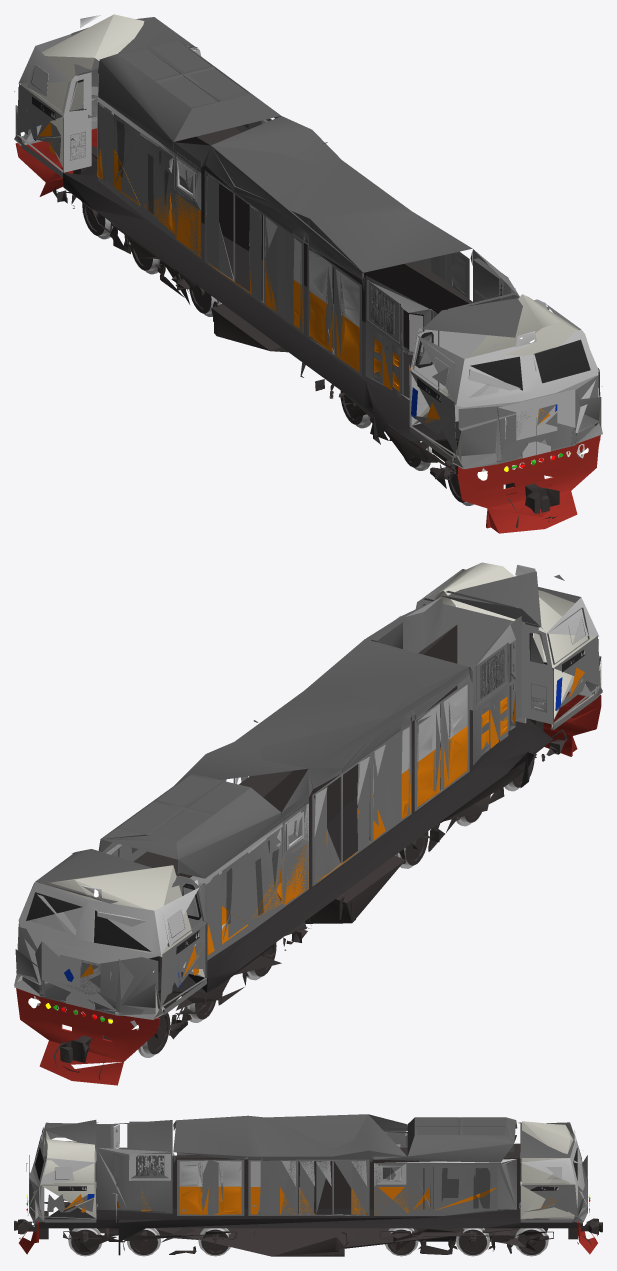
File: cc206-sketchfab-low-packed.glb
3 views of the same model, one above another, from view 1: azimuth 30°, elevation 25°; view 2: azimuth 150°, elevation 25°; view 3: azimuth 270°, elevation 25° (orthographic). The views are drawn at different scales.
Visible parts, largest first — view 1: locomotive-body, cab-entry-0--1, rail-bogie-1, cab-entry-1--1, rail-bogie--1, rail-coupler-1; view 2: locomotive-body, cab-entry-1--1, rail-bogie--1, rail-bogie-1, cab-entry-0--1, cab-entry-0-1, rail-wheel-0--1, rail-coupler--1; view 3: locomotive-body, rail-bogie--1, rail-bogie-1, rail-wheel-1-1, rail-wheel-0-1, rail-wheel-4-1, rail-wheel-3-1, rail-wheel-2-1, rail-coupler-1, rail-coupler--1, rail-wheel-5-1.
Part boxes in pixels (x1,y1,x2,y2): locomotive-body: (14,14,602,533); cab-entry-0--1: (63,70,91,172); rail-bogie-1: (300,362,458,488); cab-entry-1--1: (410,329,536,458); rail-bogie--1: (53,187,219,321); rail-coupler-1: (505,483,559,513); locomotive-body: (14,562,602,1085); cab-entry-1--1: (525,622,553,724); rail-bogie--1: (158,894,344,1039); rail-bogie-1: (399,729,567,864); cab-entry-0--1: (80,875,206,1010); cab-entry-0-1: (59,954,80,1006); rail-wheel-0--1: (138,1007,170,1057); rail-coupler--1: (60,1035,109,1062); locomotive-body: (19,1114,597,1256); rail-bogie--1: (342,1228,553,1254); rail-bogie-1: (63,1199,254,1254); rail-wheel-1-1: (456,1228,489,1256); rail-wheel-0-1: (515,1228,548,1256); rail-wheel-4-1: (127,1228,160,1256); rail-wheel-3-1: (198,1228,230,1256); rail-wheel-2-1: (385,1228,418,1256); rail-coupler-1: (14,1211,48,1239); rail-coupler--1: (568,1218,602,1239); rail-wheel-5-1: (68,1228,101,1256).
Size of the model in its own units: 2.94 by 3.64 by 15.85.
